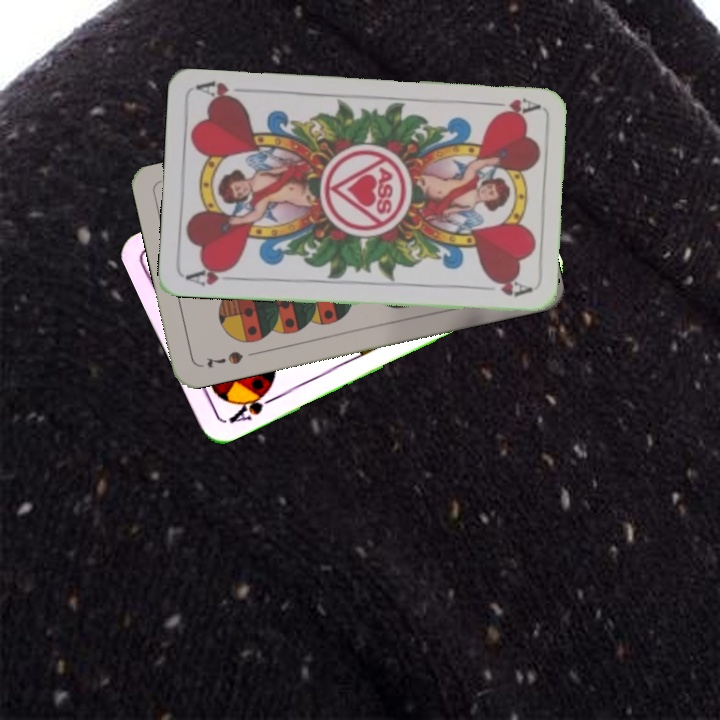HA: (182, 262, 242, 289), (482, 94, 541, 120)
S7: (202, 347, 246, 371)
SA: (224, 384, 278, 426)
